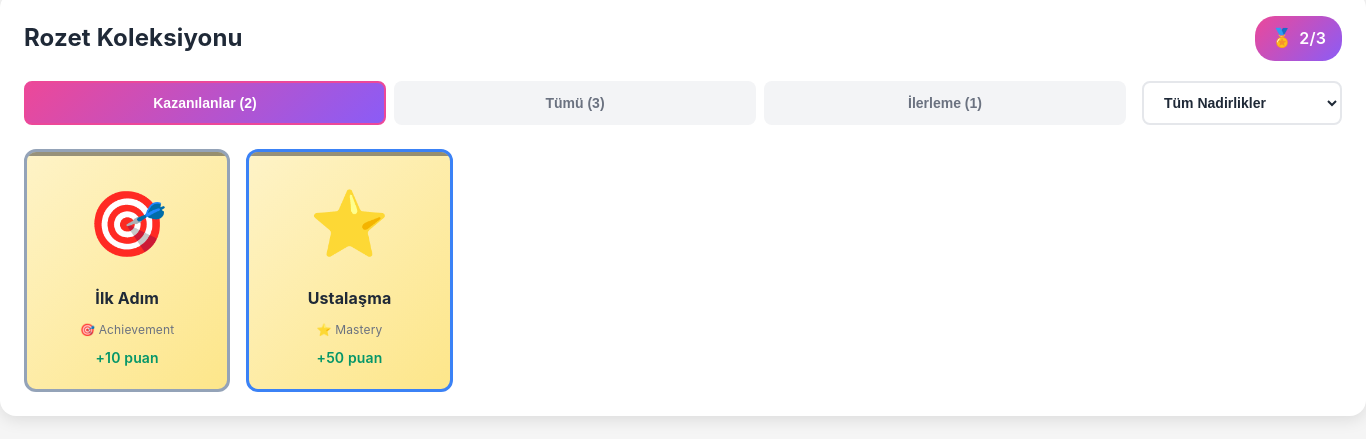
Test case: BadgeCollection - View Modes › switches to all badges view
What coordinates should you click on to do the following:
click the button "Tümü (3)"
I would click on:
 (575, 103)
Its box is [394,81,756,125].
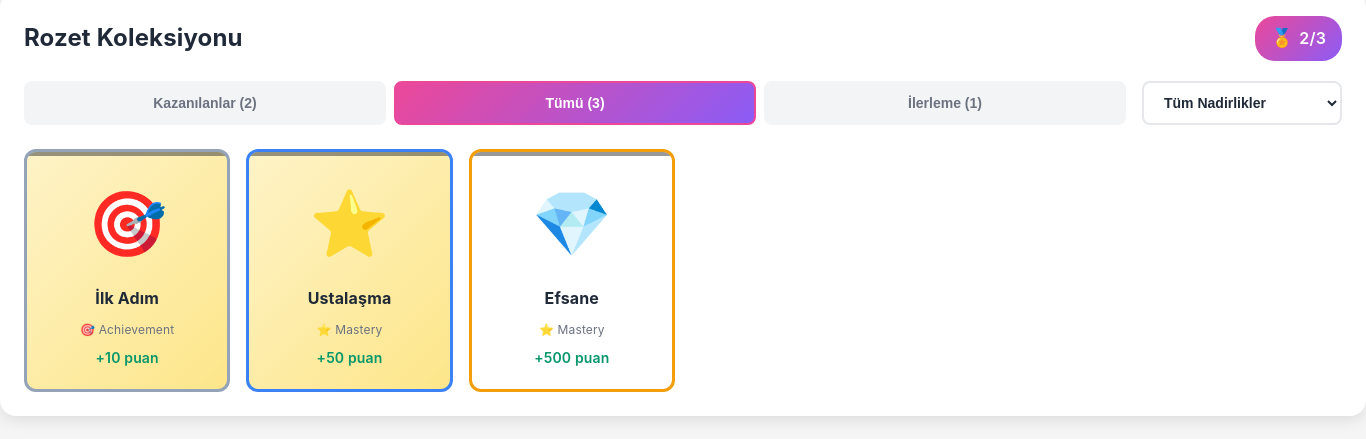
Check: the text "Efsane" is shown, box [545,288,599,308]
